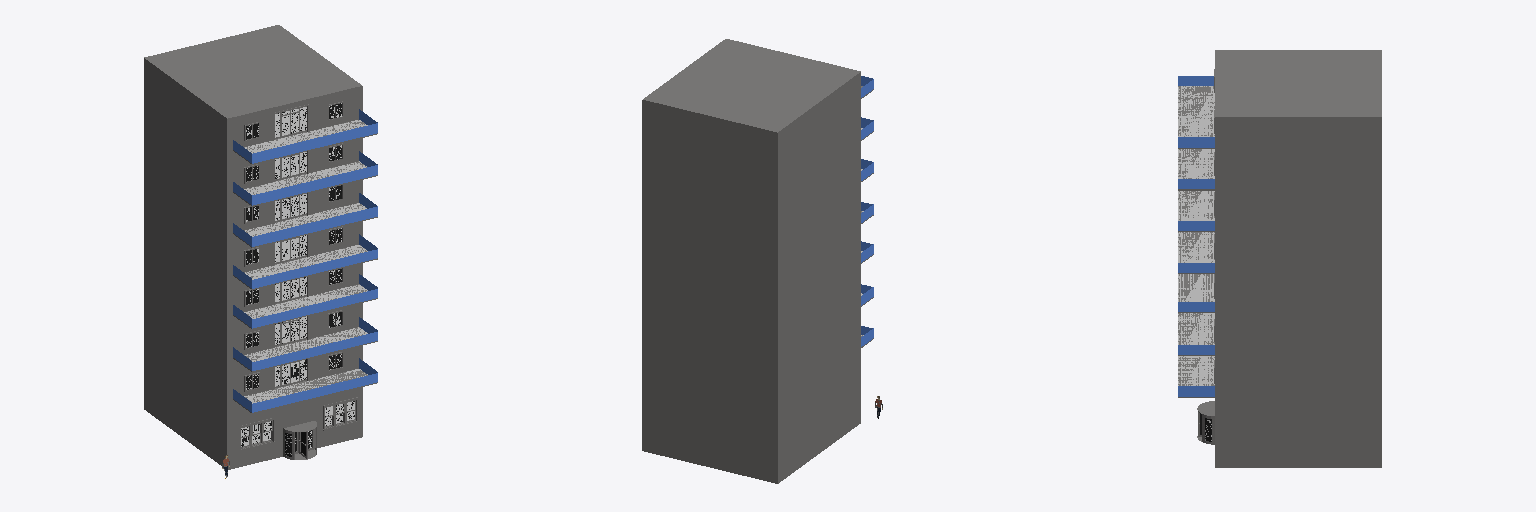
The picture shows the model from 3 angles: view 1: azimuth 30°, elevation 25°; view 2: azimuth 150°, elevation 25°; view 3: azimuth 270°, elevation 25°; orthographic projection.
Parts seen in each view (by area): view 1: Mesh136 building1 Model, Mesh38 Door_Glass_Double_Sidelights1 building1 Model, Mesh116 Window_3lite_8__6x5__4_1 building1 Model, Mesh123 Window_3lite_8__6x5__4_2 building1 Model, Mesh68 Door_Glass_Double_Sidelights6 building1 Model, Mesh56 Door_Glass_Double_Sidelights4 building1 Model, Mesh44 Door_Glass_Double_Sidelights2 building1 Model, Mesh50 Door_Glass_Double_Sidelights3 building1 Model, Mesh74 Door_Glass_Double_Sidelights7 building1 Model, Mesh31 DoorRevolving1 building1 Model, Mesh62 Door_Glass_Double_Sidelights5 building1 Model; view 2: Mesh136 building1 Model; view 3: Mesh136 building1 Model.
Boxes of the visible parts, x1,y1,x2,y2 form: Mesh136 building1 Model: [144, 25, 377, 469]; Mesh38 Door_Glass_Double_Sidelights1 building1 Model: [273, 104, 308, 140]; Mesh116 Window_3lite_8__6x5__4_1 building1 Model: [323, 397, 357, 430]; Mesh123 Window_3lite_8__6x5__4_2 building1 Model: [240, 418, 274, 450]; Mesh68 Door_Glass_Double_Sidelights6 building1 Model: [273, 316, 308, 347]; Mesh56 Door_Glass_Double_Sidelights4 building1 Model: [273, 235, 308, 265]; Mesh44 Door_Glass_Double_Sidelights2 building1 Model: [273, 151, 308, 181]; Mesh50 Door_Glass_Double_Sidelights3 building1 Model: [273, 193, 308, 223]; Mesh74 Door_Glass_Double_Sidelights7 building1 Model: [273, 359, 308, 389]; Mesh31 DoorRevolving1 building1 Model: [283, 421, 316, 459]; Mesh62 Door_Glass_Double_Sidelights5 building1 Model: [273, 276, 308, 304]; Mesh136 building1 Model: [642, 39, 873, 483]; Mesh136 building1 Model: [1178, 50, 1381, 467].
Bounding box in the file's own units: 11.86 × 26.8 × 14.15.